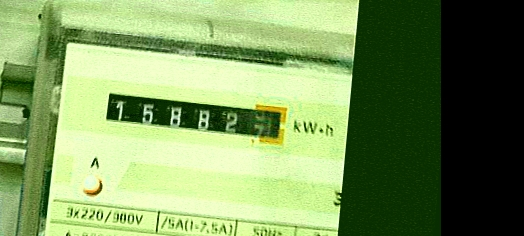1: (111, 97, 127, 120)
2: (221, 109, 239, 134)
5: (139, 99, 155, 125)
7: (251, 119, 265, 137)
8: (194, 106, 210, 132), (167, 104, 182, 128)
screen: (94, 81, 296, 154)
